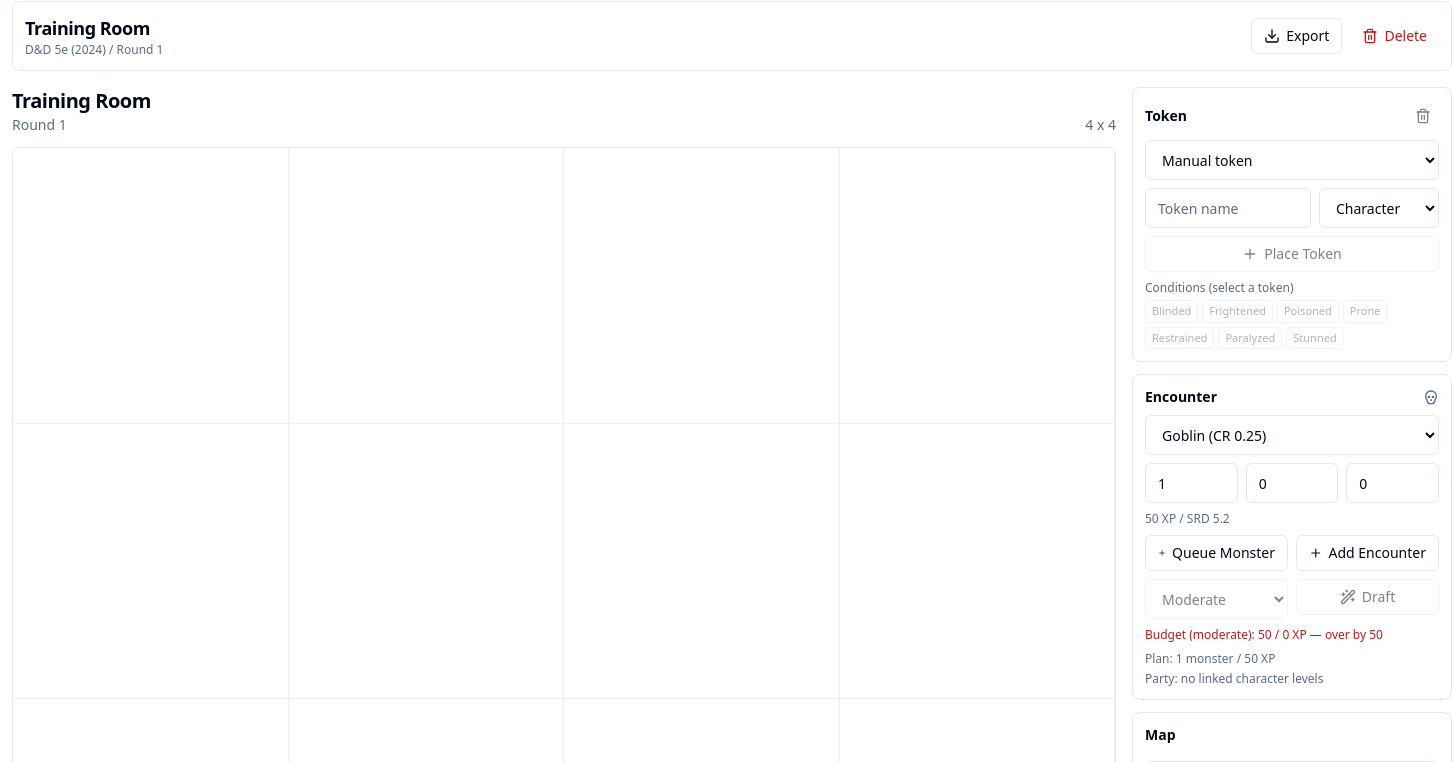
Scenario: SceneManager › REGRESSION (02-M3): killing the selected target clears it from the combat panel
Select "Vicious Brute (CR 0.25)" in the dropdown named "encounter monster" at (1292, 435), box [1145,415,1439,455]
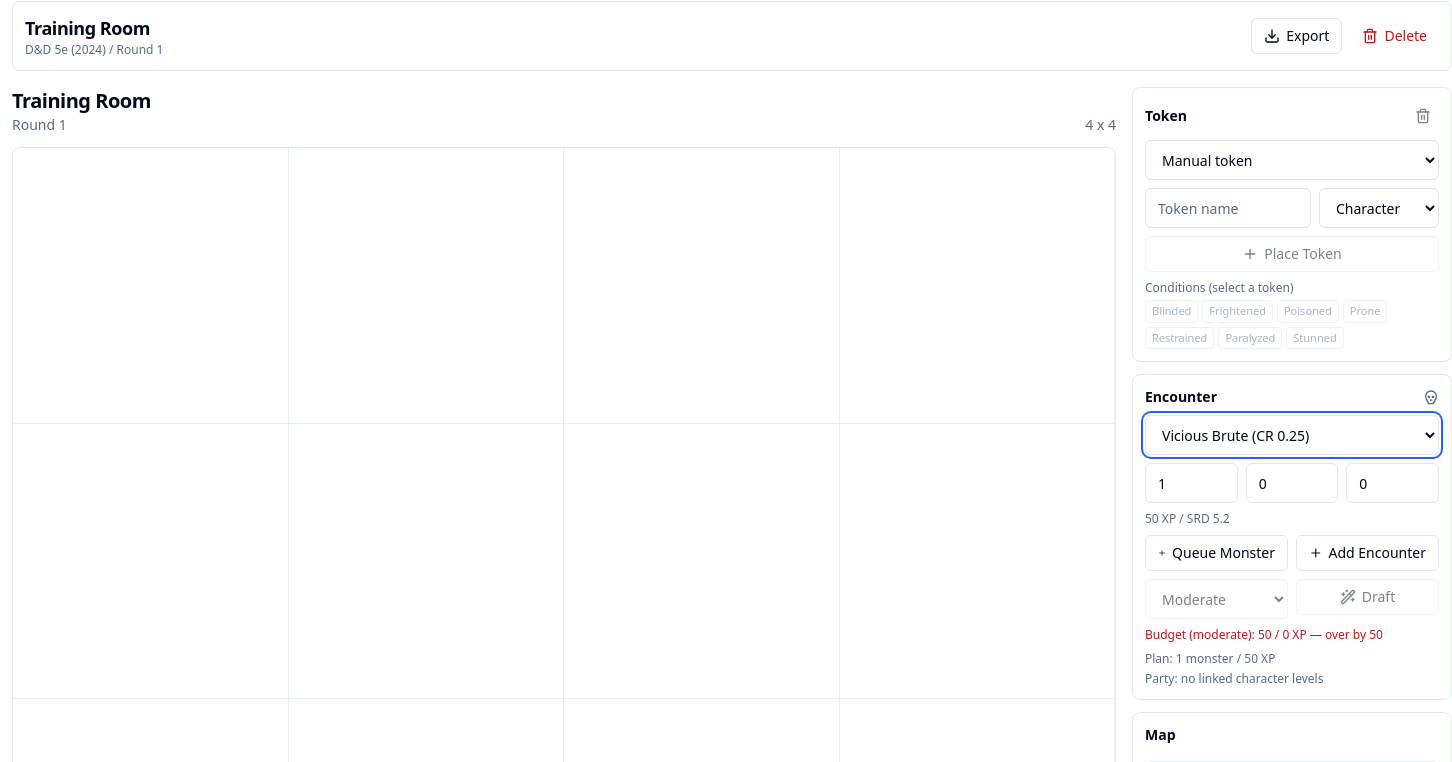
Replace the text in the field named "encounter count" with "2" at (1191, 483), box [1145,463,1238,503]
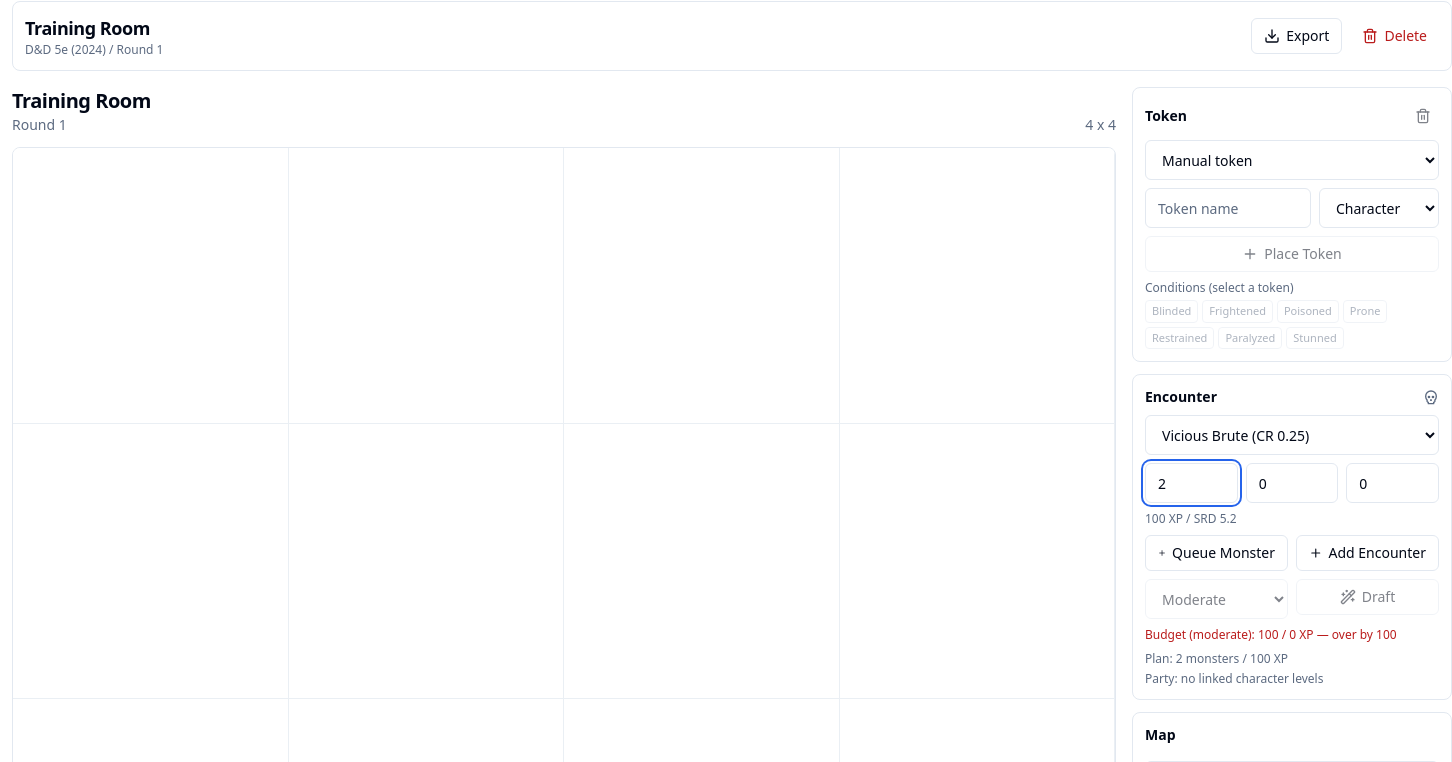
Click the button "Add Encounter" at (1368, 553), box [1296,535,1439,571]
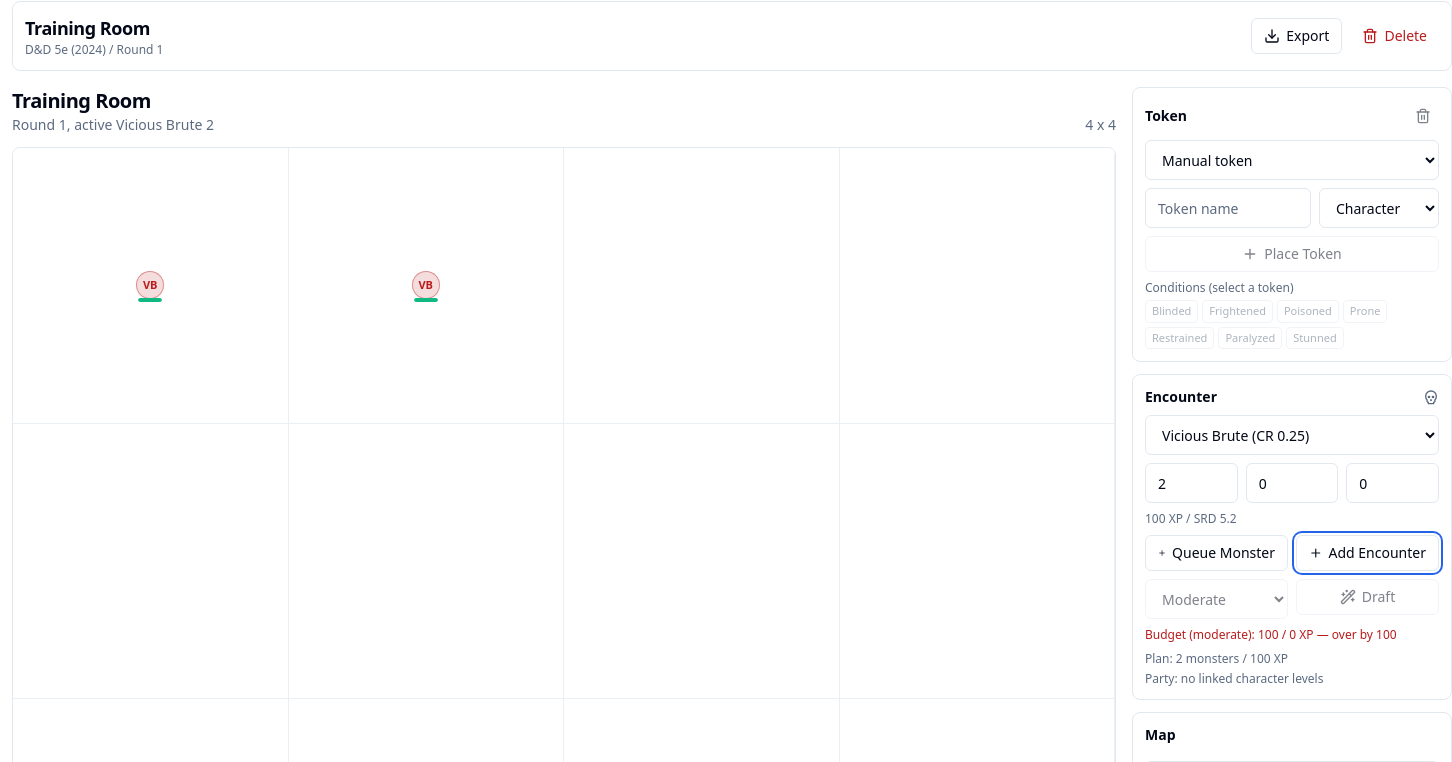
Click the button with aria-label "Token Vicious Brute 1" at (150, 285), box [136,271,164,299]
(page scrolled)
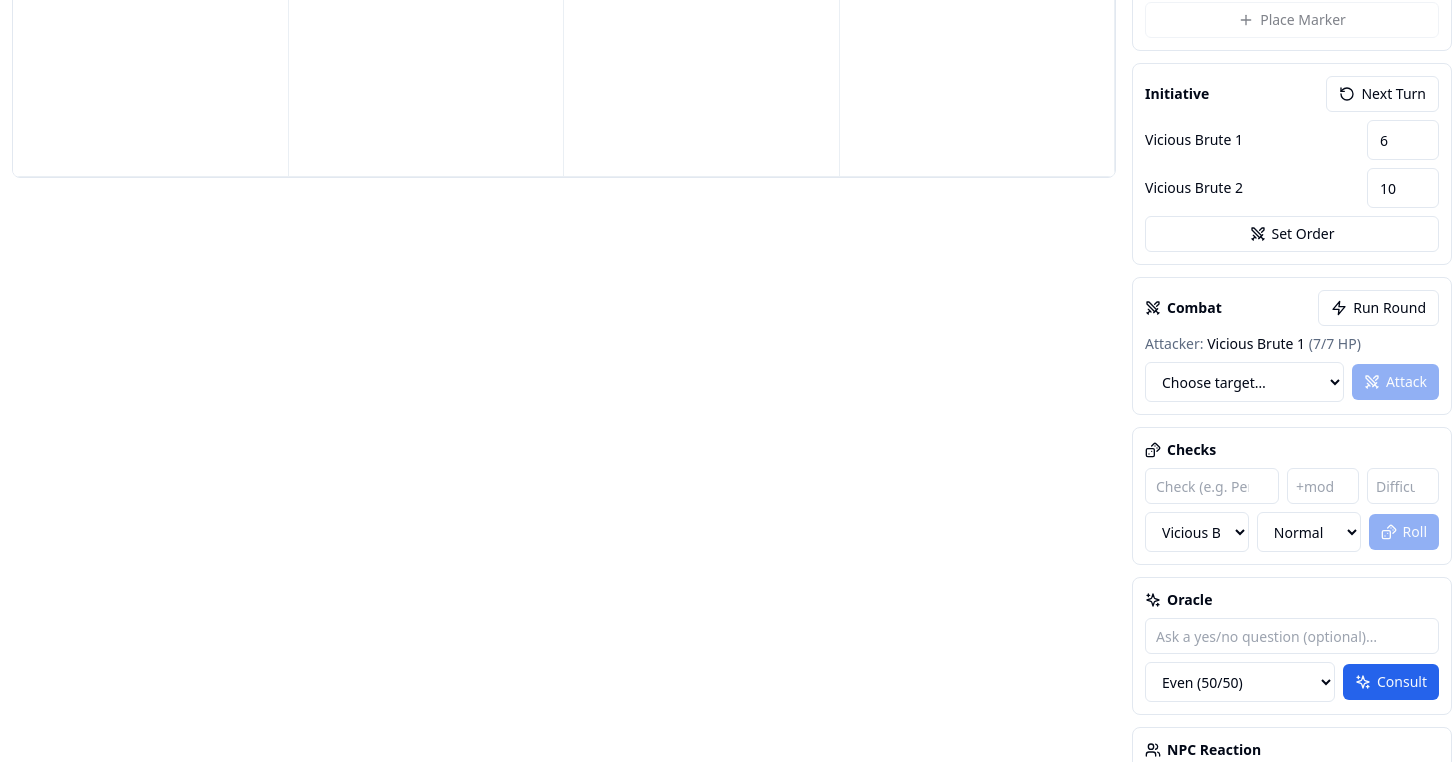
Select "Vicious Brute 2 (7/7)" in the dropdown named "attack target" at (1244, 382), box [1145,362,1344,402]
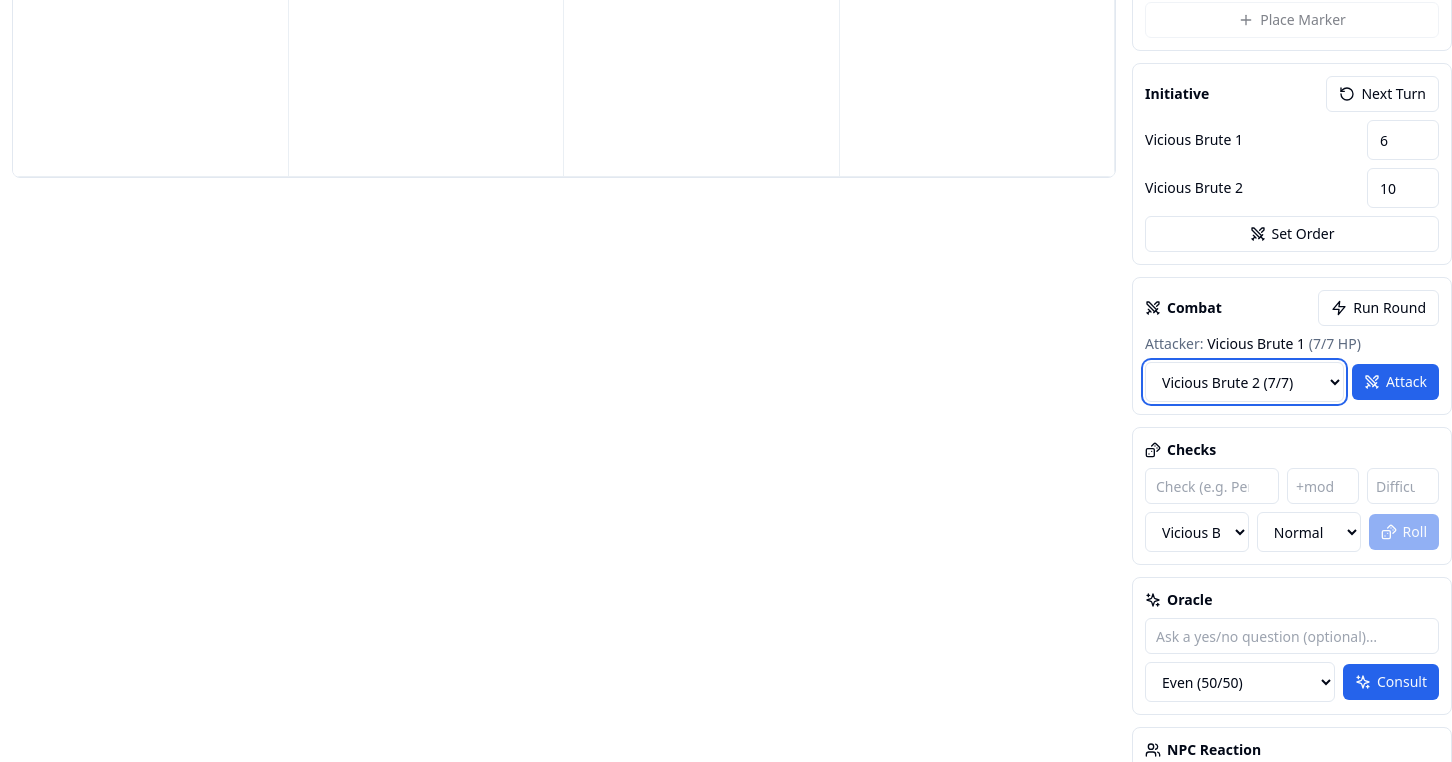
Click the button "Attack" at (1395, 382), box [1352,364,1439,400]
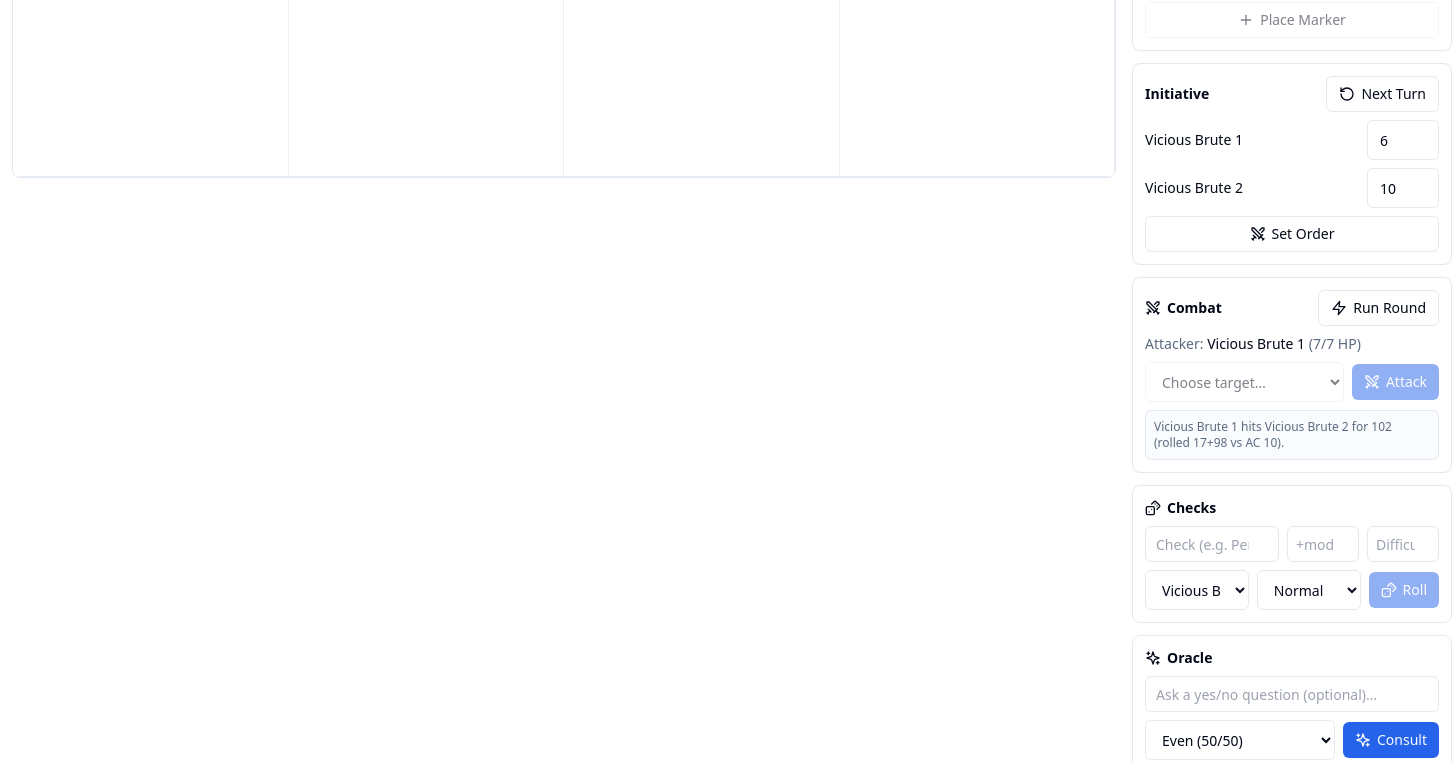
Result: the list item is shown at [1154,418,1392,451]
Result: the button "Attack" is disabled at [1352,364,1439,400]
